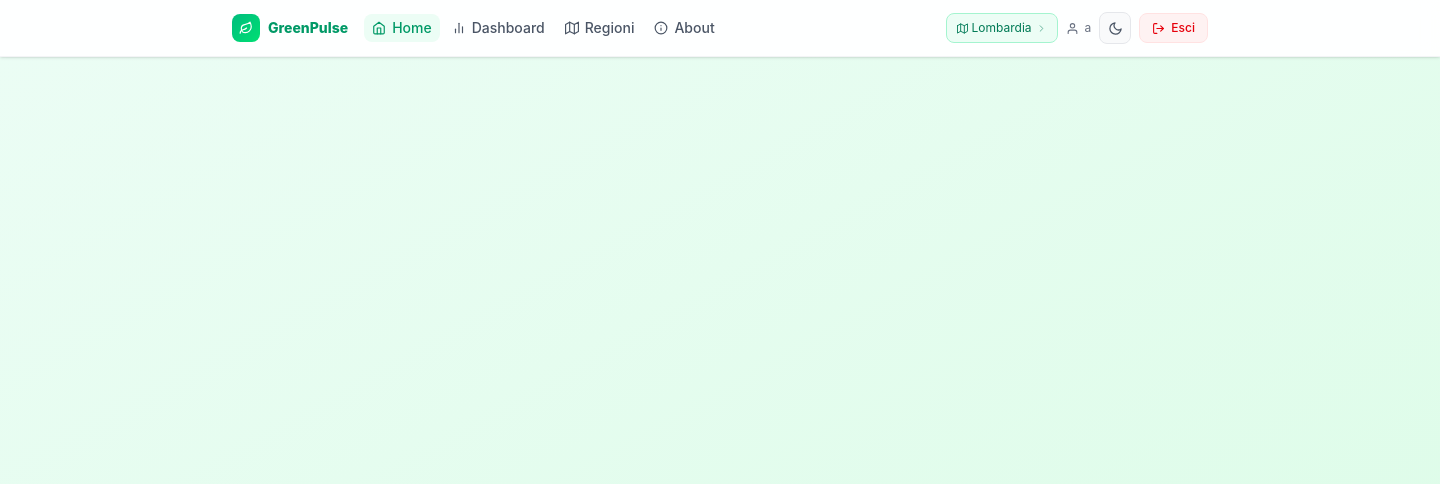
Test case: Navbar › logout riporta a non autenticato
The image size is (1440, 484).
Click the button "Esci": (1174, 28) [1139,13,1208,43]
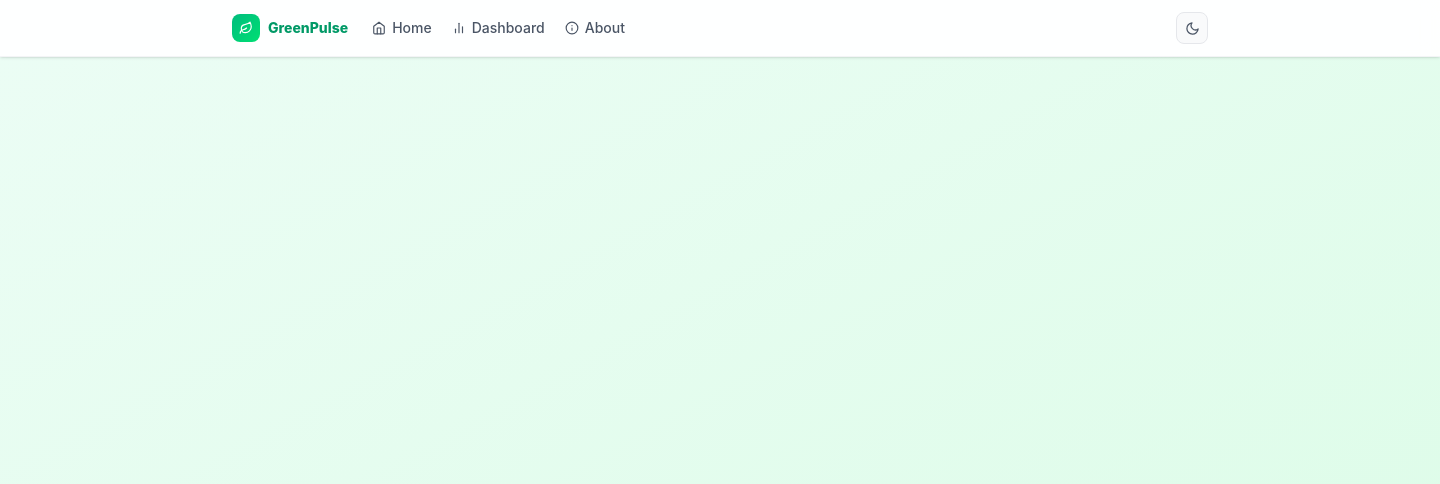
Expected: the button "Esci" is gone
